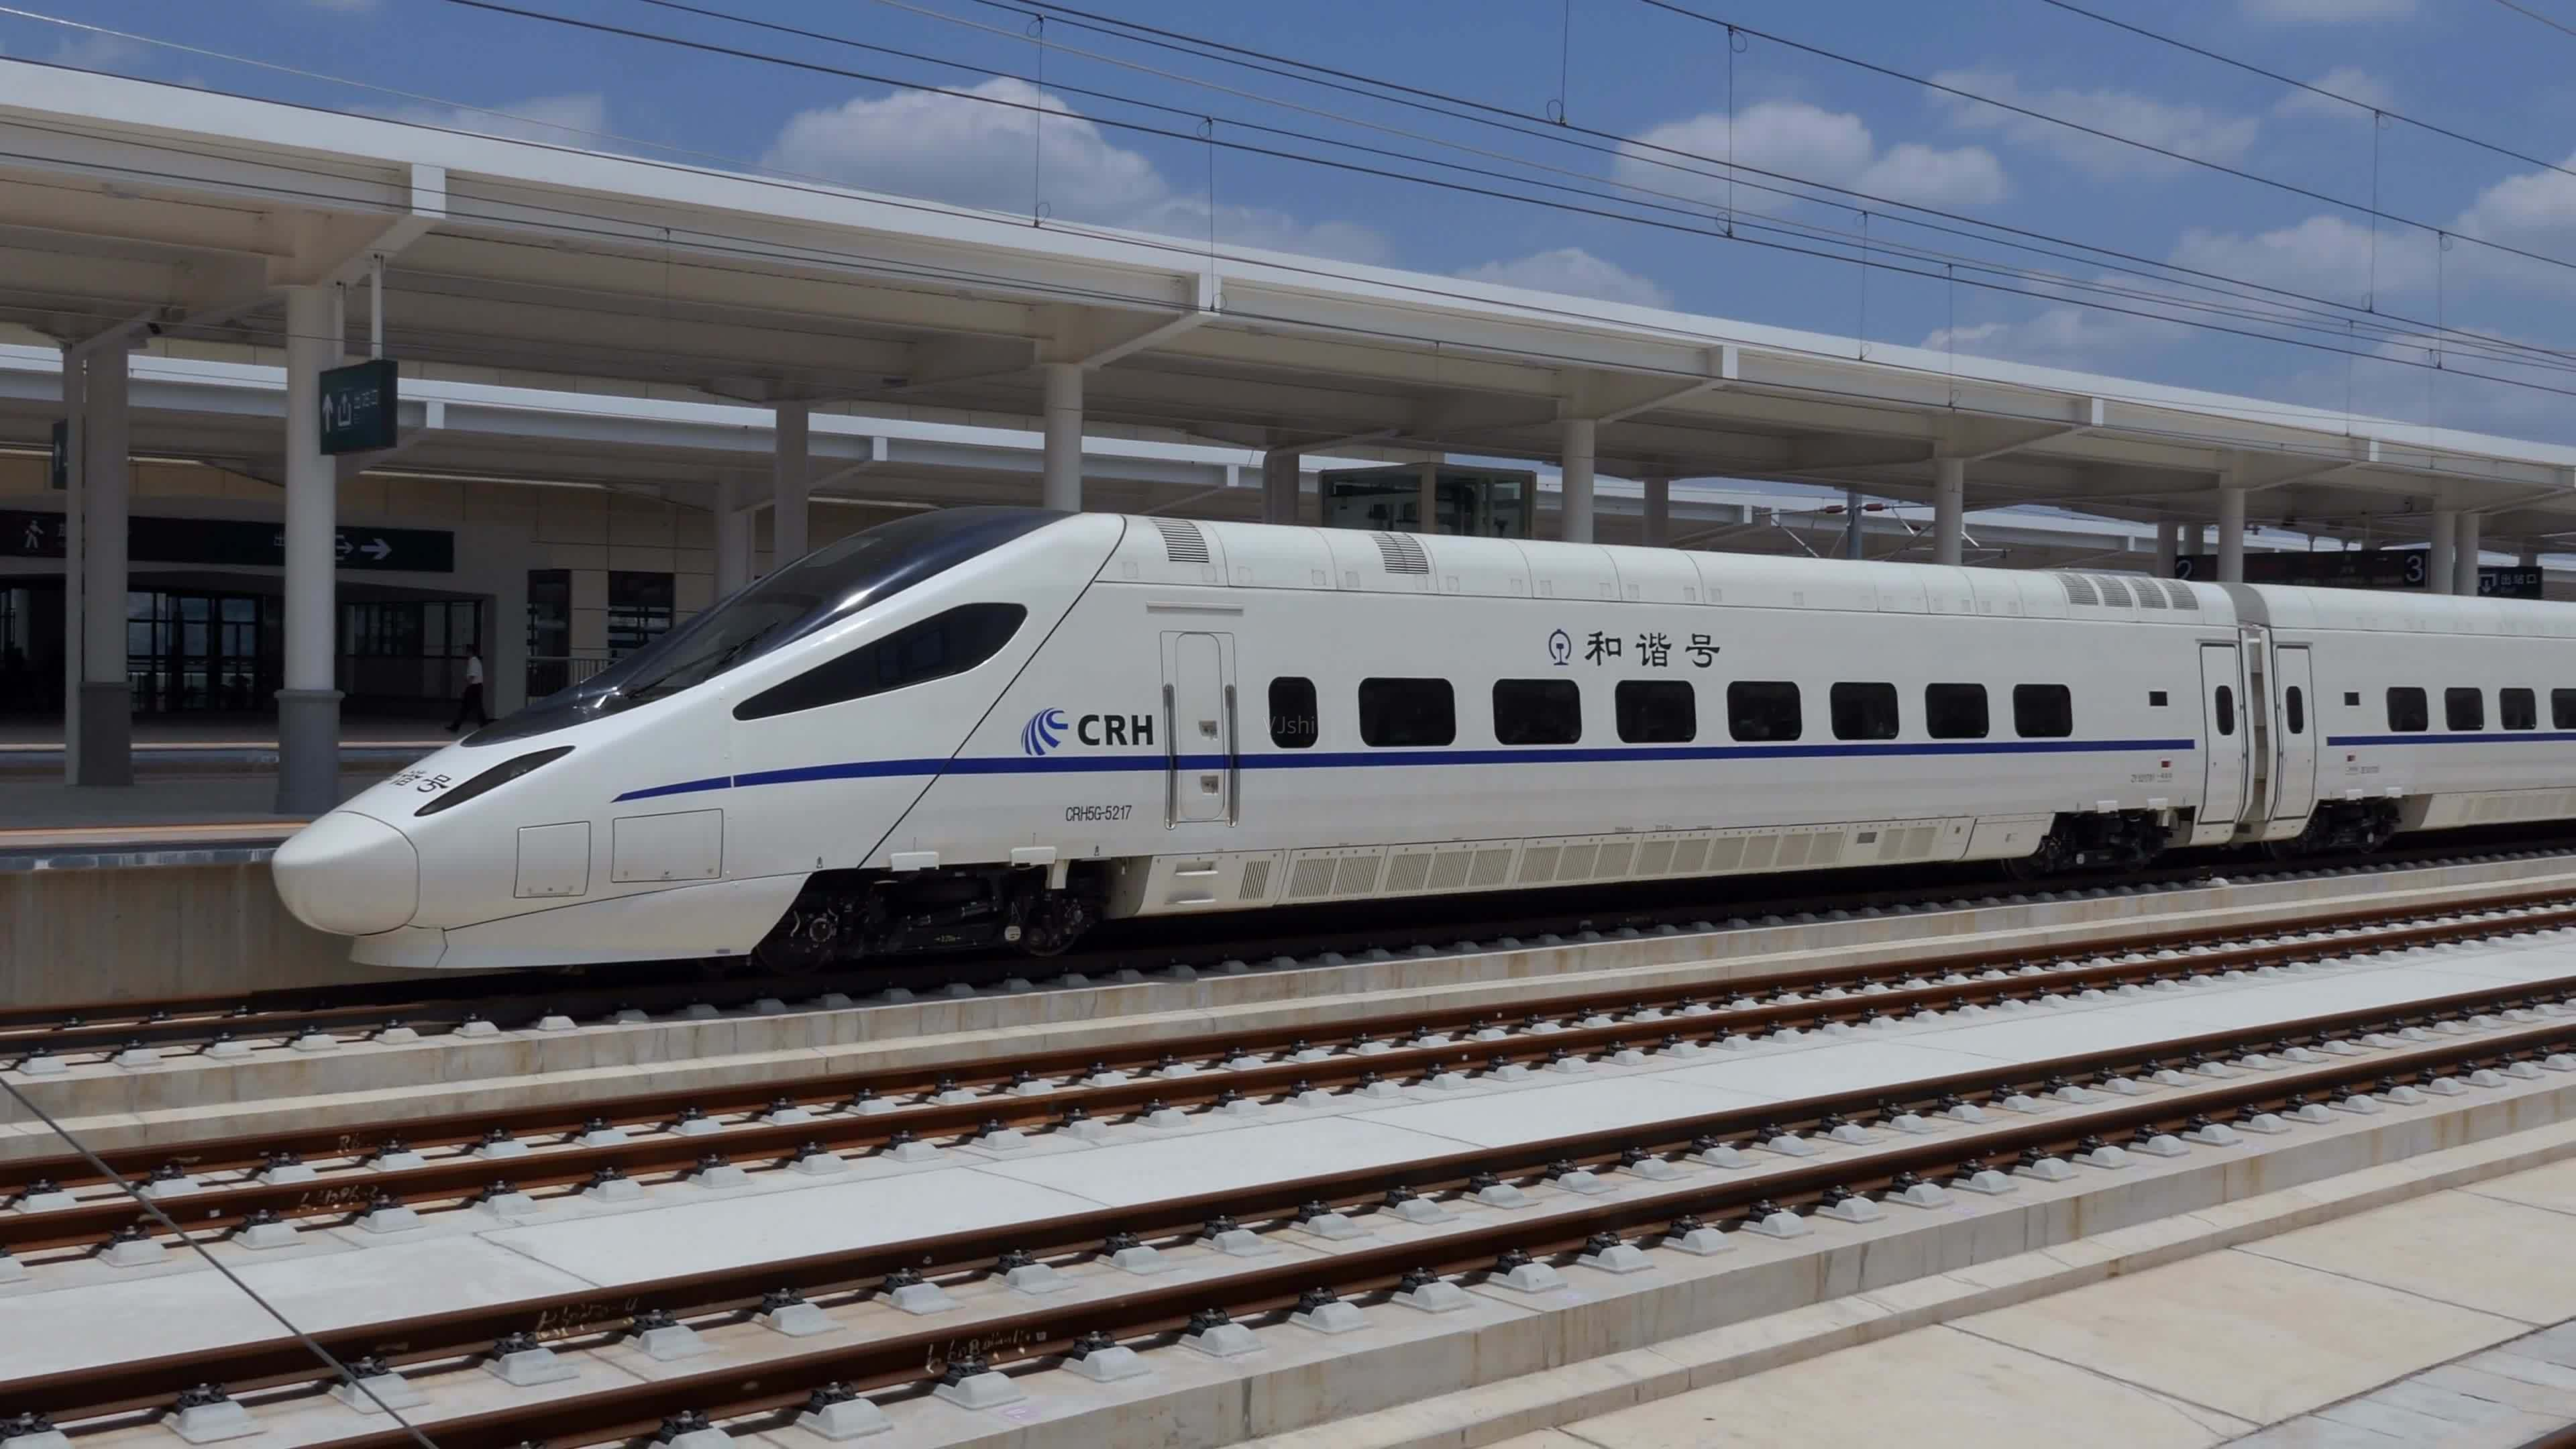hsrw: (258, 494, 2567, 975)
